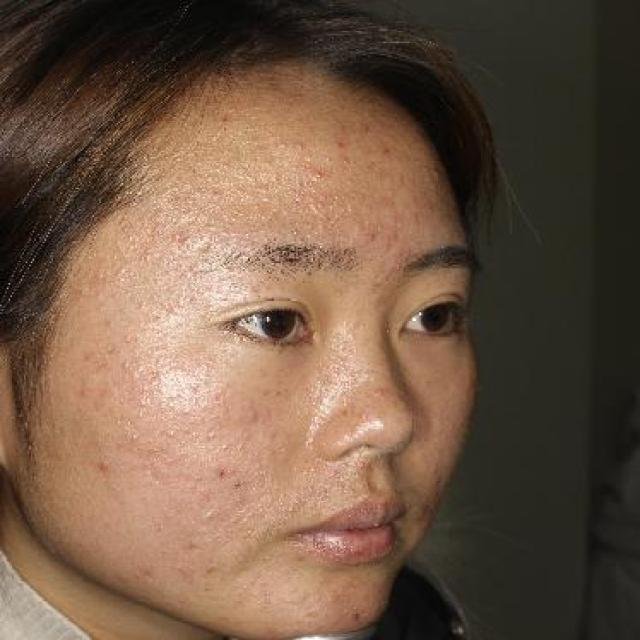whiteheads: (240, 408, 264, 426), (118, 326, 137, 346), (207, 384, 226, 404), (174, 229, 193, 248), (96, 455, 113, 474), (115, 262, 128, 284), (118, 357, 137, 372), (164, 426, 180, 443), (291, 138, 310, 152), (147, 441, 163, 457), (120, 220, 135, 237), (312, 166, 325, 185), (217, 440, 233, 455), (151, 218, 164, 236), (286, 497, 308, 506), (289, 188, 305, 200), (332, 163, 349, 174), (197, 431, 210, 443), (235, 440, 248, 451), (180, 404, 190, 418), (178, 421, 188, 434), (142, 383, 151, 394)
